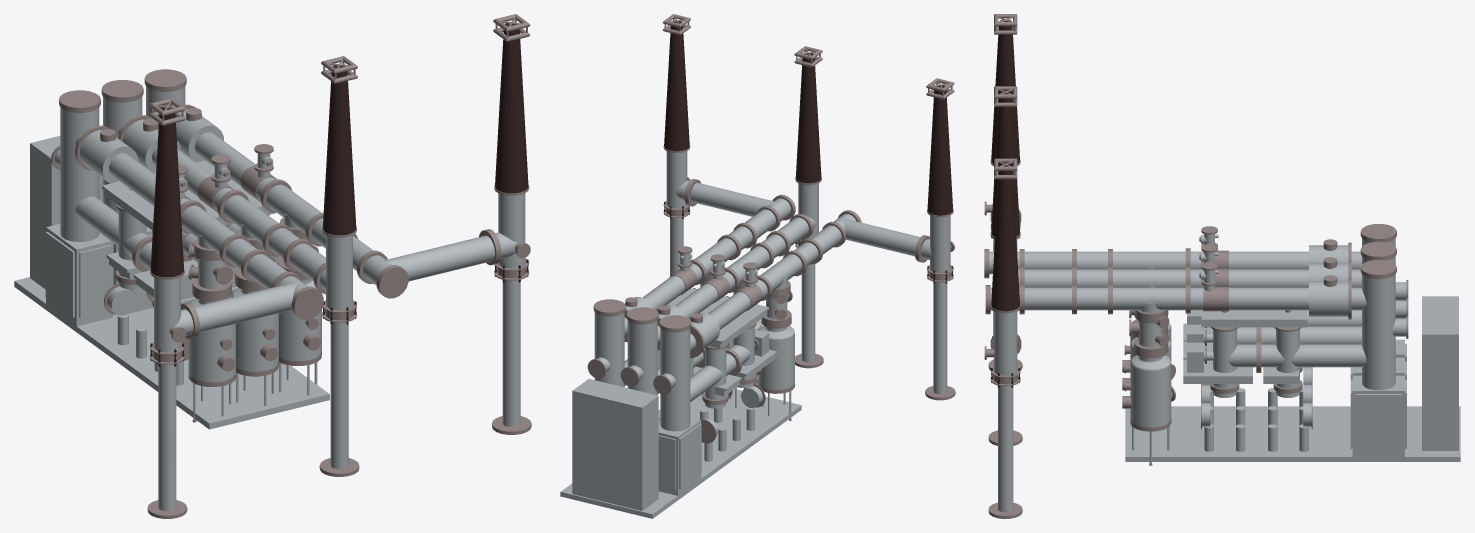
The model's file is isolation.FBX.
The picture shows the model from 3 angles, left to right: view 1: azimuth 30°, elevation 25°; view 2: azimuth 150°, elevation 25°; view 3: azimuth 270°, elevation 25°; orthographic projection. The views are drawn at different scales.
Visible parts, largest first — view 1: Obj3d66-1032738-3057-268, Obj3d66-1032738-3055-727, Obj3d66-1032738-3058-500, Obj3d66-1032738-3292-724, Obj3d66-1032738-3262-798, Obj3d66-1032738-3281-636, Obj3d66-1032738-3257-243, Obj3d66-1032738-3046-739, Obj3d66-1032738-3054-333, Obj3d66-1032738-3141-426, Obj3d66-1032738-3306-645, Obj3d66-1032738-3307-247 (+26 smaller); view 2: Obj3d66-1032738-3141-426, Obj3d66-1032738-3057-268, Obj3d66-1032738-3054-333, Obj3d66-1032738-3055-727, Obj3d66-1032738-3058-500, Obj3d66-1032738-3257-243, Obj3d66-1032738-3046-739, Obj3d66-1032738-3281-636, Obj3d66-1032738-3292-724, Obj3d66-1032738-3262-798, Obj3d66-1032738-3242-914, Obj3d66-1032738-3152-394 (+18 smaller); view 3: Obj3d66-1032738-3057-268, Obj3d66-1032738-3257-243, Obj3d66-1032738-3141-426, Obj3d66-1032738-3058-500, Obj3d66-1032738-3046-739, Obj3d66-1032738-3146-218, Obj3d66-1032738-3152-394, Obj3d66-1032738-3101-825, Obj3d66-1032738-3281-636, Obj3d66-1032738-3155-870, Obj3d66-1032738-3273-535, Obj3d66-1032738-3072-666 (+15 smaller).
Boxes of the visible parts, x1,y1,x2,y2 form: Obj3d66-1032738-3057-268: (14, 277, 329, 429); Obj3d66-1032738-3055-727: (45, 224, 113, 326); Obj3d66-1032738-3058-500: (75, 134, 307, 299); Obj3d66-1032738-3292-724: (150, 107, 184, 277); Obj3d66-1032738-3262-798: (322, 65, 356, 235); Obj3d66-1032738-3281-636: (495, 23, 528, 193); Obj3d66-1032738-3257-243: (195, 132, 392, 285); Obj3d66-1032738-3046-739: (118, 124, 326, 290); Obj3d66-1032738-3054-333: (60, 107, 99, 241); Obj3d66-1032738-3141-426: (30, 125, 102, 289); Obj3d66-1032738-3306-645: (174, 283, 297, 335); Obj3d66-1032738-3307-247: (383, 232, 518, 281); Obj3d66-1032738-3141-426: (572, 379, 658, 510); Obj3d66-1032738-3057-268: (560, 389, 801, 518); Obj3d66-1032738-3054-333: (660, 328, 690, 431); Obj3d66-1032738-3055-727: (658, 417, 701, 495); Obj3d66-1032738-3058-500: (690, 214, 856, 351); Obj3d66-1032738-3257-243: (624, 198, 790, 335); Obj3d66-1032738-3046-739: (657, 216, 816, 343); Obj3d66-1032738-3281-636: (664, 21, 689, 151); Obj3d66-1032738-3292-724: (927, 85, 952, 215); Obj3d66-1032738-3262-798: (795, 53, 821, 183); Obj3d66-1032738-3242-914: (758, 277, 794, 390); Obj3d66-1032738-3152-394: (594, 312, 624, 387); Obj3d66-1032738-3057-268: (1125, 406, 1460, 461); Obj3d66-1032738-3257-243: (990, 287, 1366, 310); Obj3d66-1032738-3141-426: (1422, 296, 1458, 450); Obj3d66-1032738-3058-500: (989, 251, 1361, 274); Obj3d66-1032738-3046-739: (1018, 269, 1361, 287); Obj3d66-1032738-3146-218: (1350, 375, 1406, 457); Obj3d66-1032738-3152-394: (1362, 274, 1395, 390); Obj3d66-1032738-3101-825: (1130, 303, 1171, 427); Obj3d66-1032738-3281-636: (991, 164, 1019, 311); Obj3d66-1032738-3155-870: (1228, 344, 1366, 367); Obj3d66-1032738-3273-535: (998, 386, 1013, 512); Obj3d66-1032738-3072-666: (1201, 310, 1307, 327).
Bounding box in the file's own units: 6591 × 6758 × 8359.
